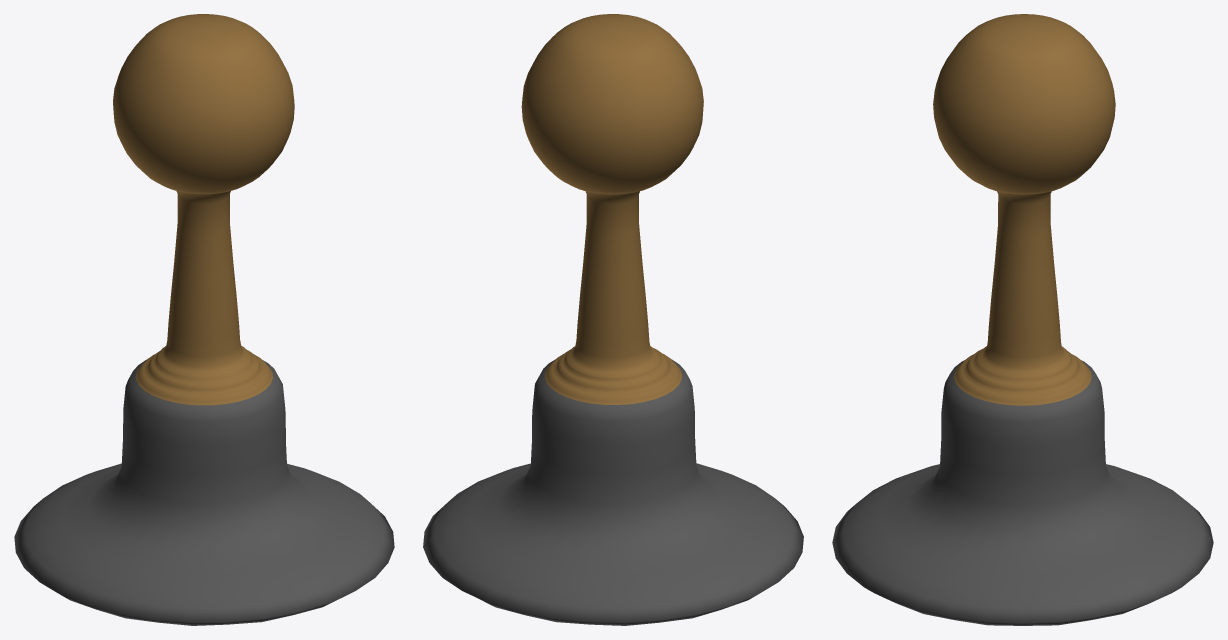
File: Trophy2.fbx
3 renders of one model, left to right at view 1: azimuth 30°, elevation 25°; view 2: azimuth 150°, elevation 25°; view 3: azimuth 270°, elevation 25°, orthographic.
Visible parts, largest first — view 1: Trophy2; view 2: Trophy2; view 3: Trophy2.
Part boxes in pixels (x1,y1,x2,y2): Trophy2: (14, 14, 394, 625); Trophy2: (423, 14, 803, 625); Trophy2: (832, 14, 1213, 625).
Size of the model in its own units: 64.63 by 99.03 by 64.63.
